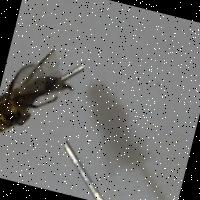Oriental-fruit-fly: (0, 31, 89, 158)
